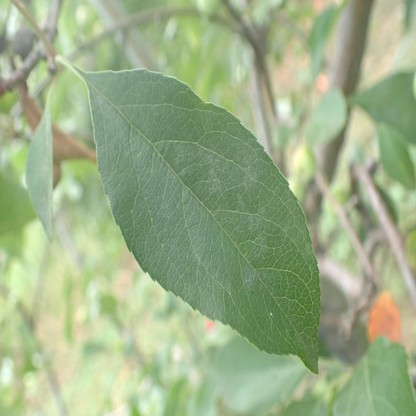powdery_mildew: (86, 71, 312, 320)
